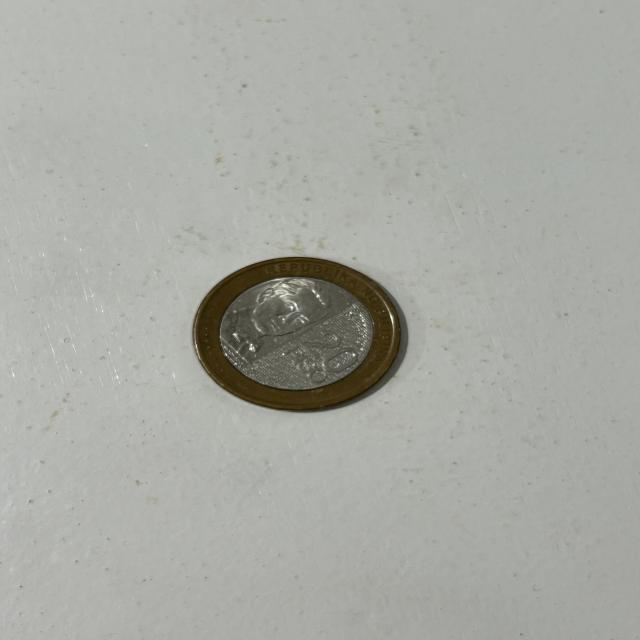20_New_Front: (285, 331, 366, 383)
